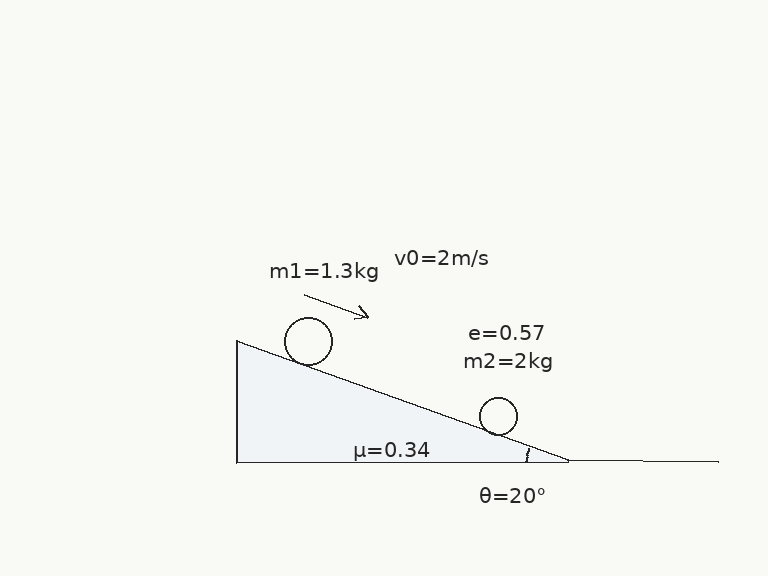ball: (282, 315, 334, 367), (477, 395, 519, 437)
ramp: (234, 339, 569, 463)
